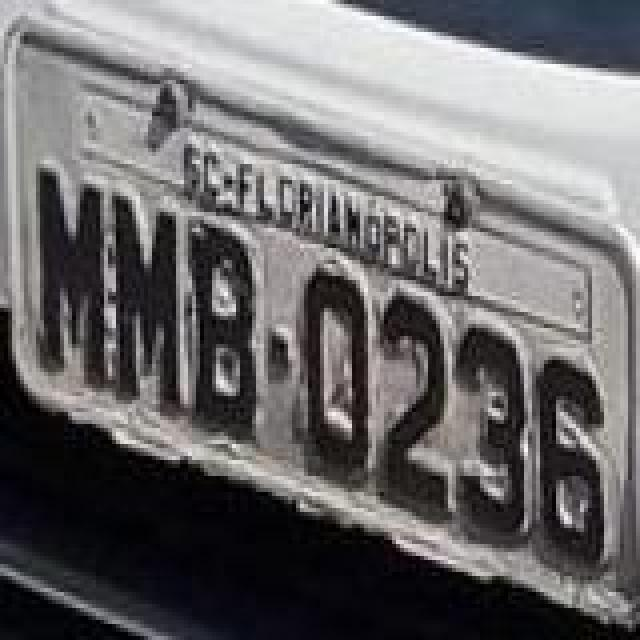2: (380, 296, 452, 512)
3: (456, 320, 528, 536)
6: (538, 356, 606, 564)
B: (188, 222, 260, 434)
M: (36, 166, 108, 378), (114, 198, 182, 410)
O: (302, 264, 370, 472)
